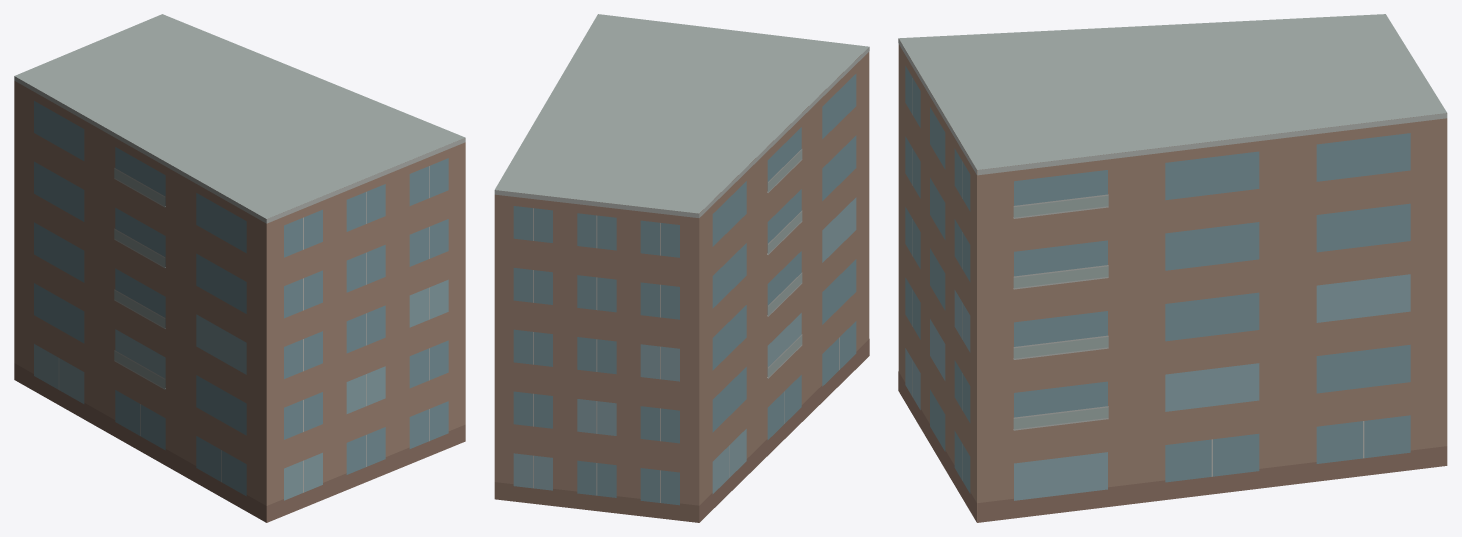
Rendered from survey-upis-32490138.glb.
3 renders of one model, left to right at view 1: azimuth 30°, elevation 25°; view 2: azimuth 150°, elevation 25°; view 3: azimuth 270°, elevation 25°, orthographic. The views are drawn at different scales.
Parts seen in each view (by area): view 1: survey-upis-32490138.tmp; view 2: survey-upis-32490138.tmp; view 3: survey-upis-32490138.tmp.
Part boxes in pixels (x1,y1,x2,y2): survey-upis-32490138.tmp: (14,14,465,522); survey-upis-32490138.tmp: (494,14,869,522); survey-upis-32490138.tmp: (898,14,1447,522).
Size of the model in its own units: 15.41 by 16.23 by 22.89.
